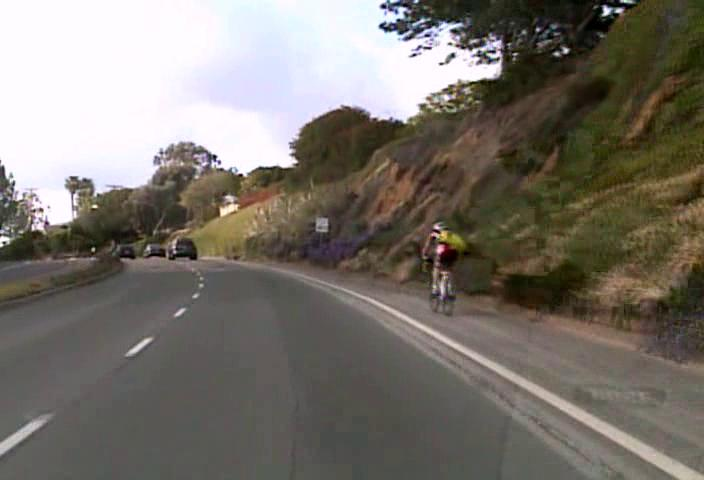speedLimitUrdbl: (314, 215, 329, 233)
